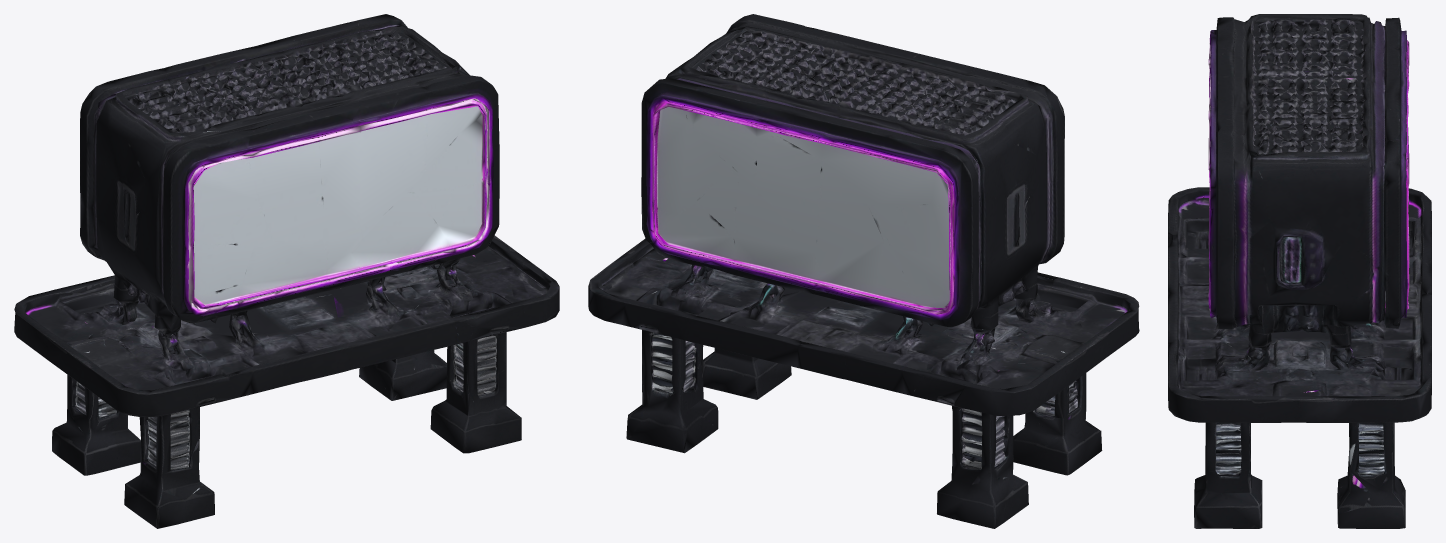
File: gantry_a.glb
3 views of the same model, side by side, from view 1: azimuth 30°, elevation 25°; view 2: azimuth 150°, elevation 25°; view 3: azimuth 270°, elevation 25° (orthographic).
Size of the model in its own units: 1.9 by 1.5 by 0.9947.
Materials: 1 (1 with a texture image).
